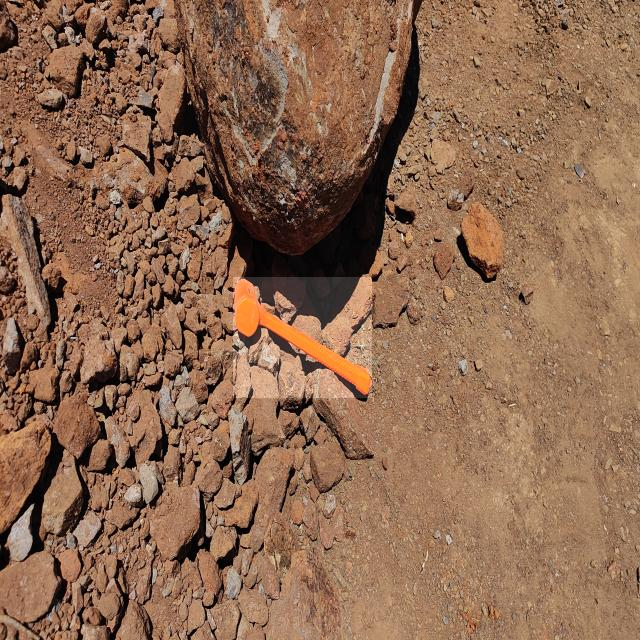Orange_hammer: (233, 277, 372, 398)
